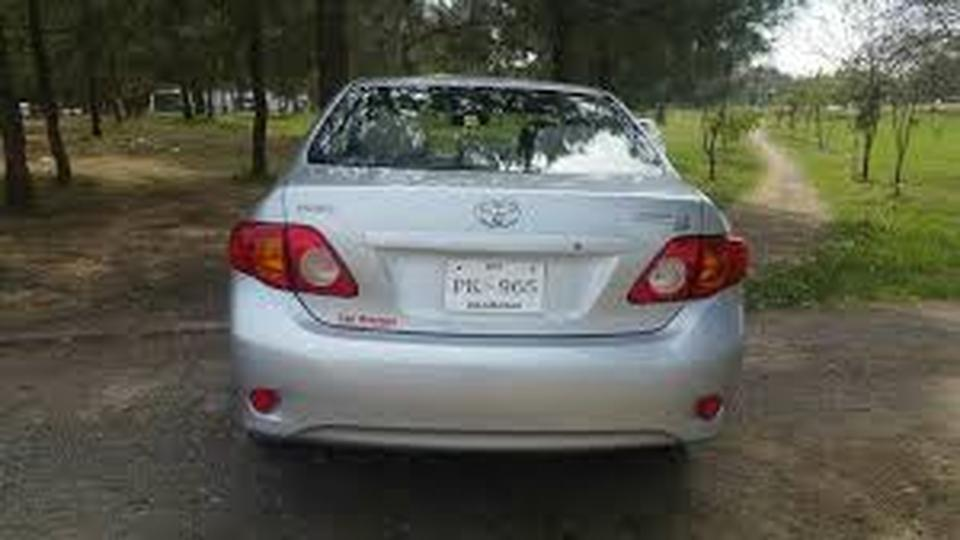NumberPlate: (441, 246, 561, 329)
